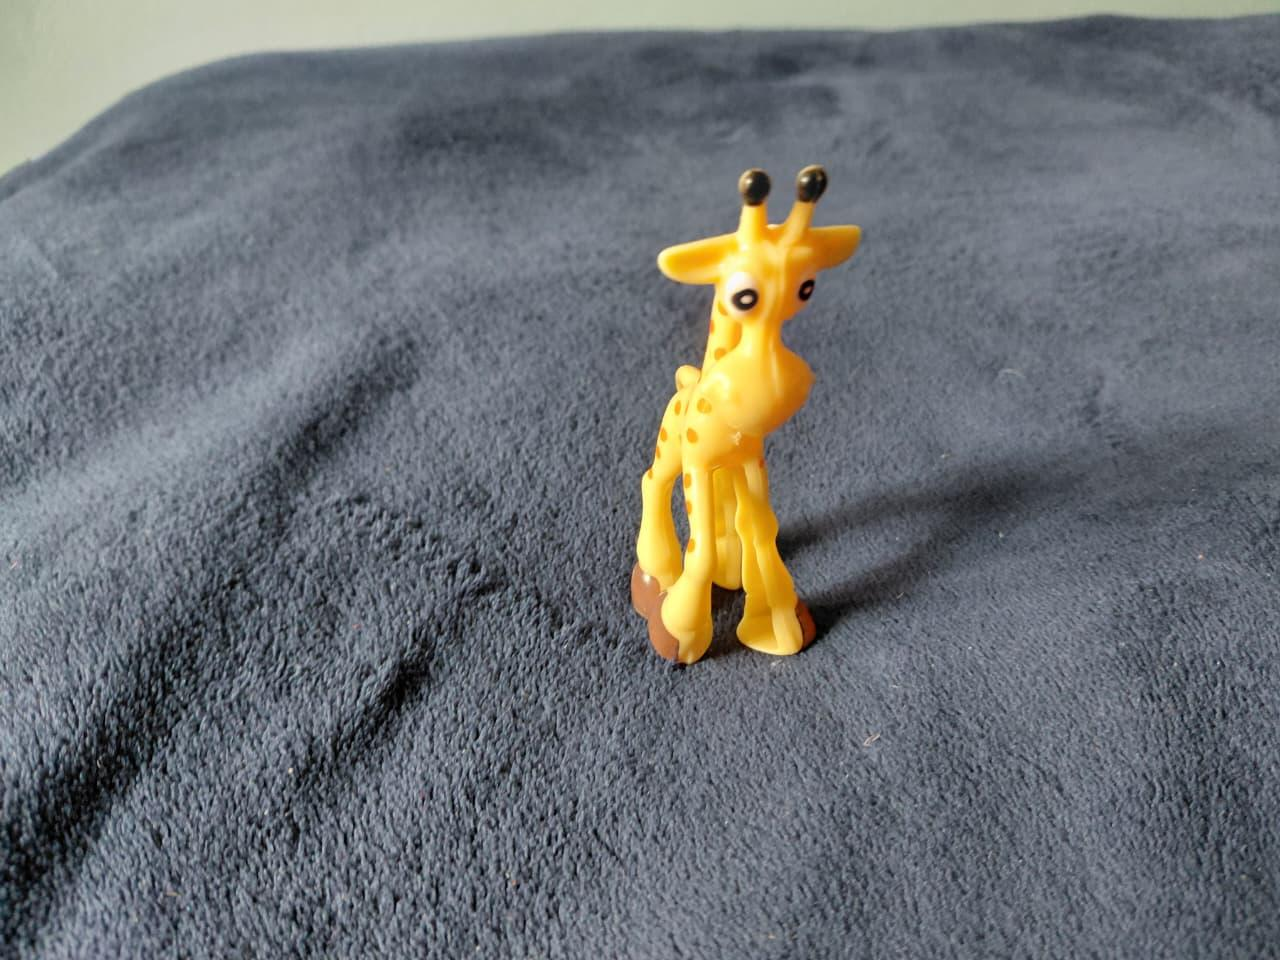giraffe: (608, 150, 867, 670)
